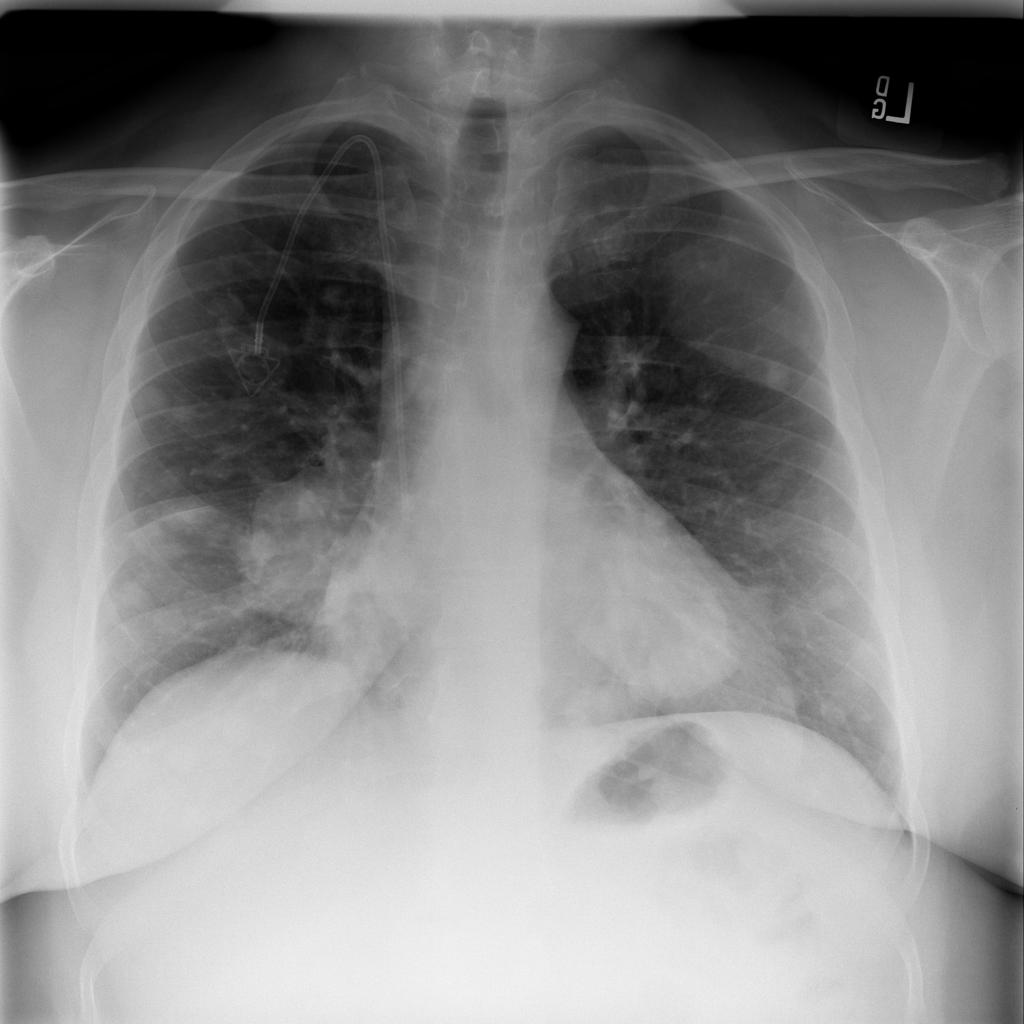nodule: (220, 473, 391, 640), (603, 569, 759, 707), (548, 667, 656, 765), (113, 368, 189, 433), (191, 280, 261, 350), (740, 338, 809, 408), (797, 563, 868, 631), (741, 451, 811, 518), (95, 567, 169, 629), (757, 674, 810, 724), (147, 599, 207, 642), (809, 686, 860, 735), (307, 273, 360, 319)
